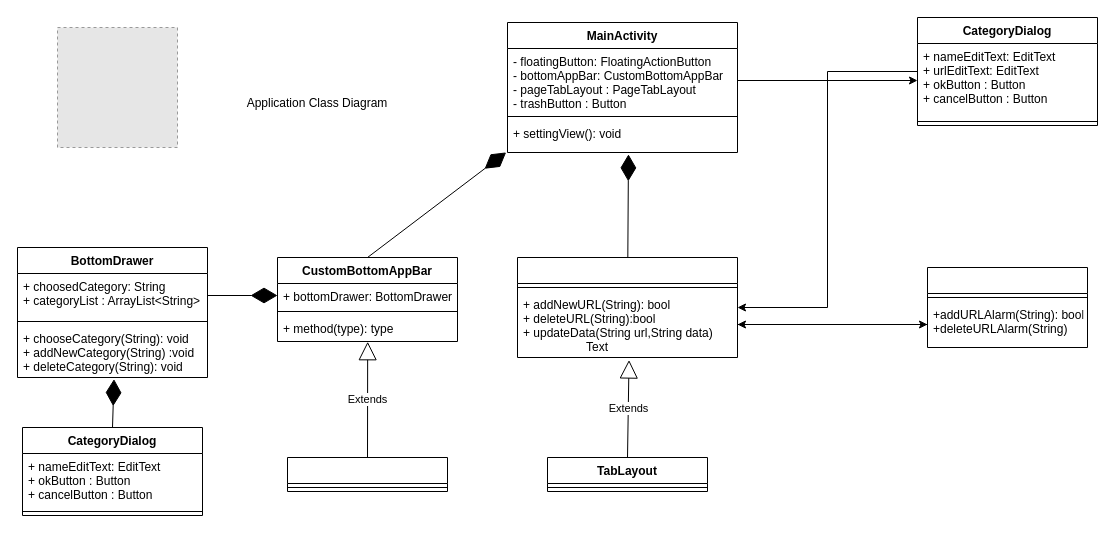
Image size: 1115x533. Some labels were removed from this diagram. Grey dashed boxes stand in for pictures. Each missing label, with the box of its shape:
BottomAppbar: (286, 456, 448, 492)
PageTabLayout: (516, 256, 738, 358)
ServerConnect.class: (926, 266, 1088, 348)
